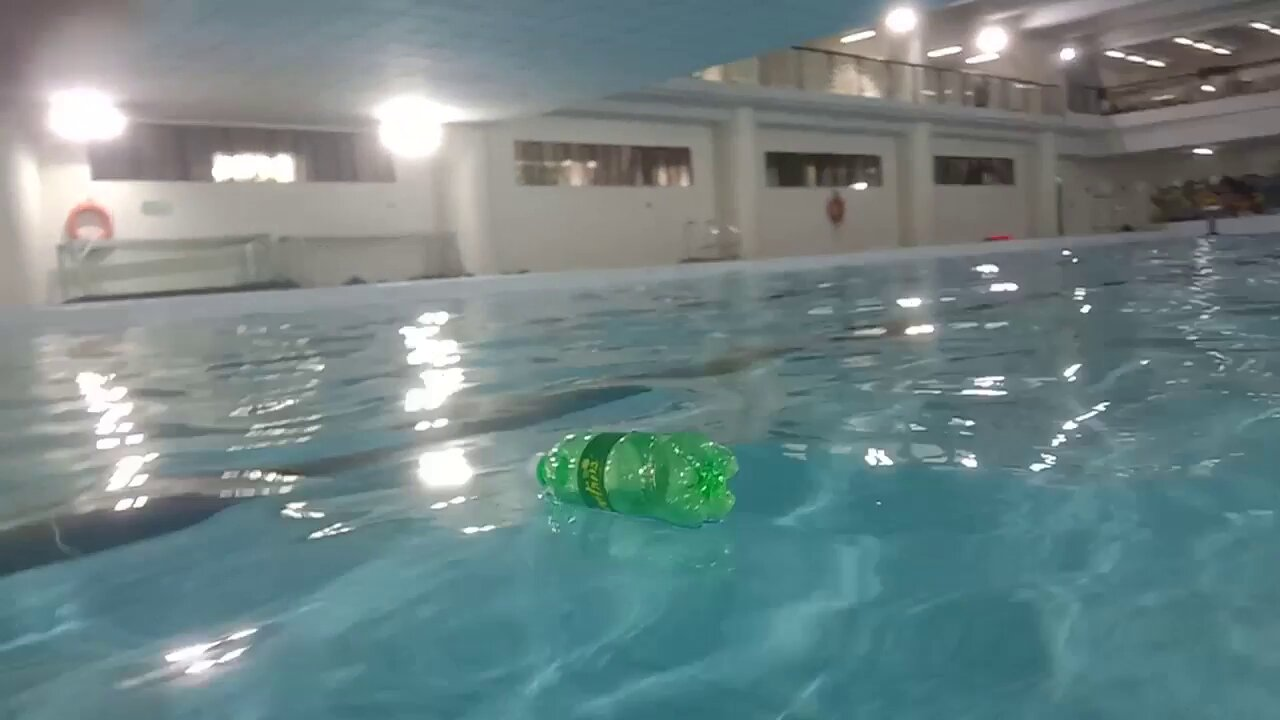plastic_bottle: (529, 431, 739, 528)
